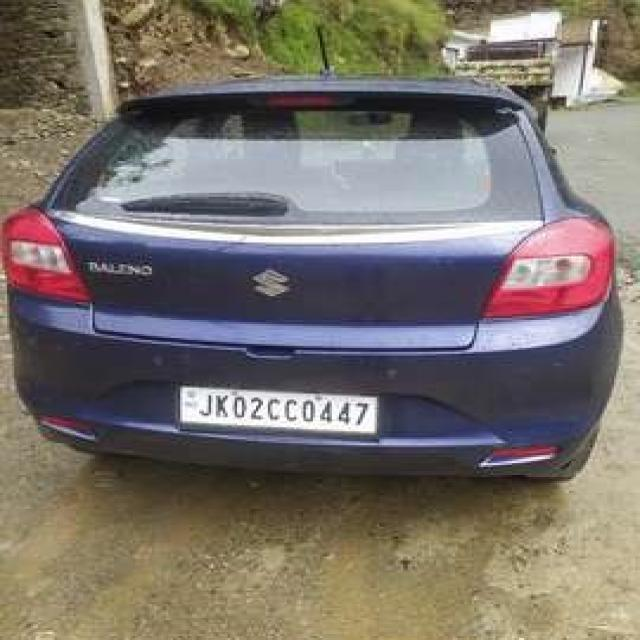licenseplate: (181, 381, 388, 441)
